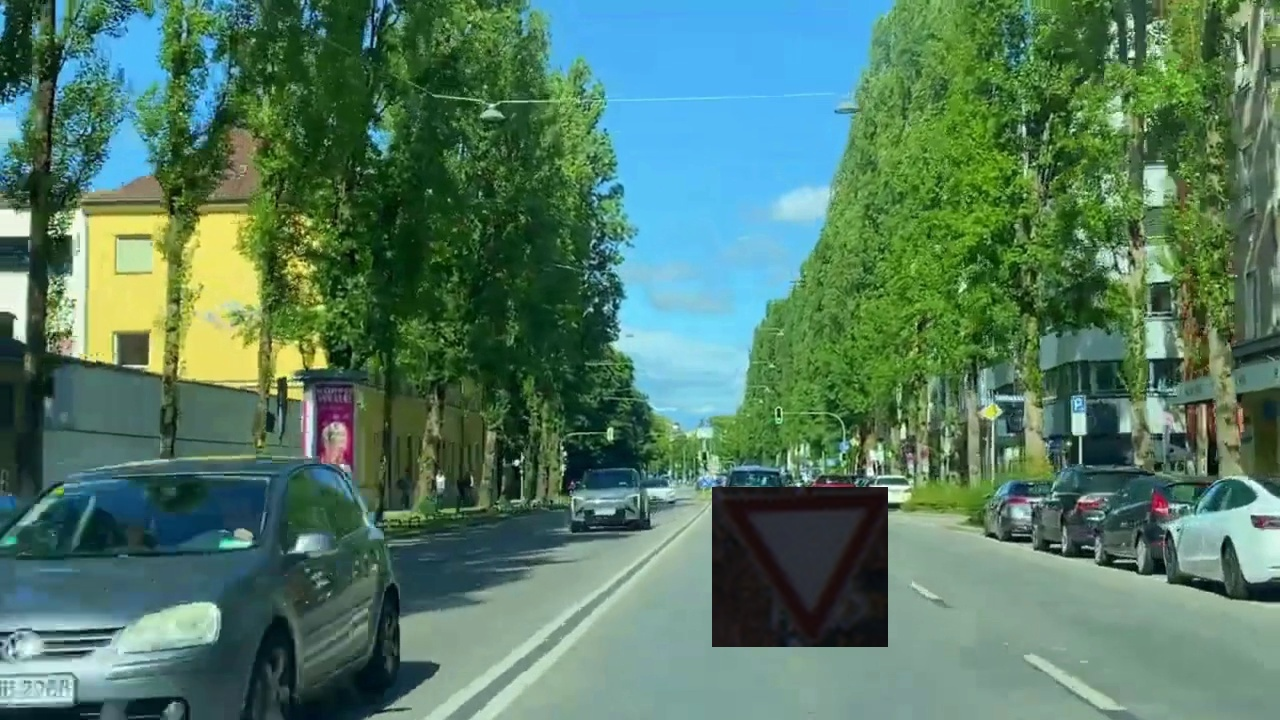Yield: (712, 487, 888, 647)
